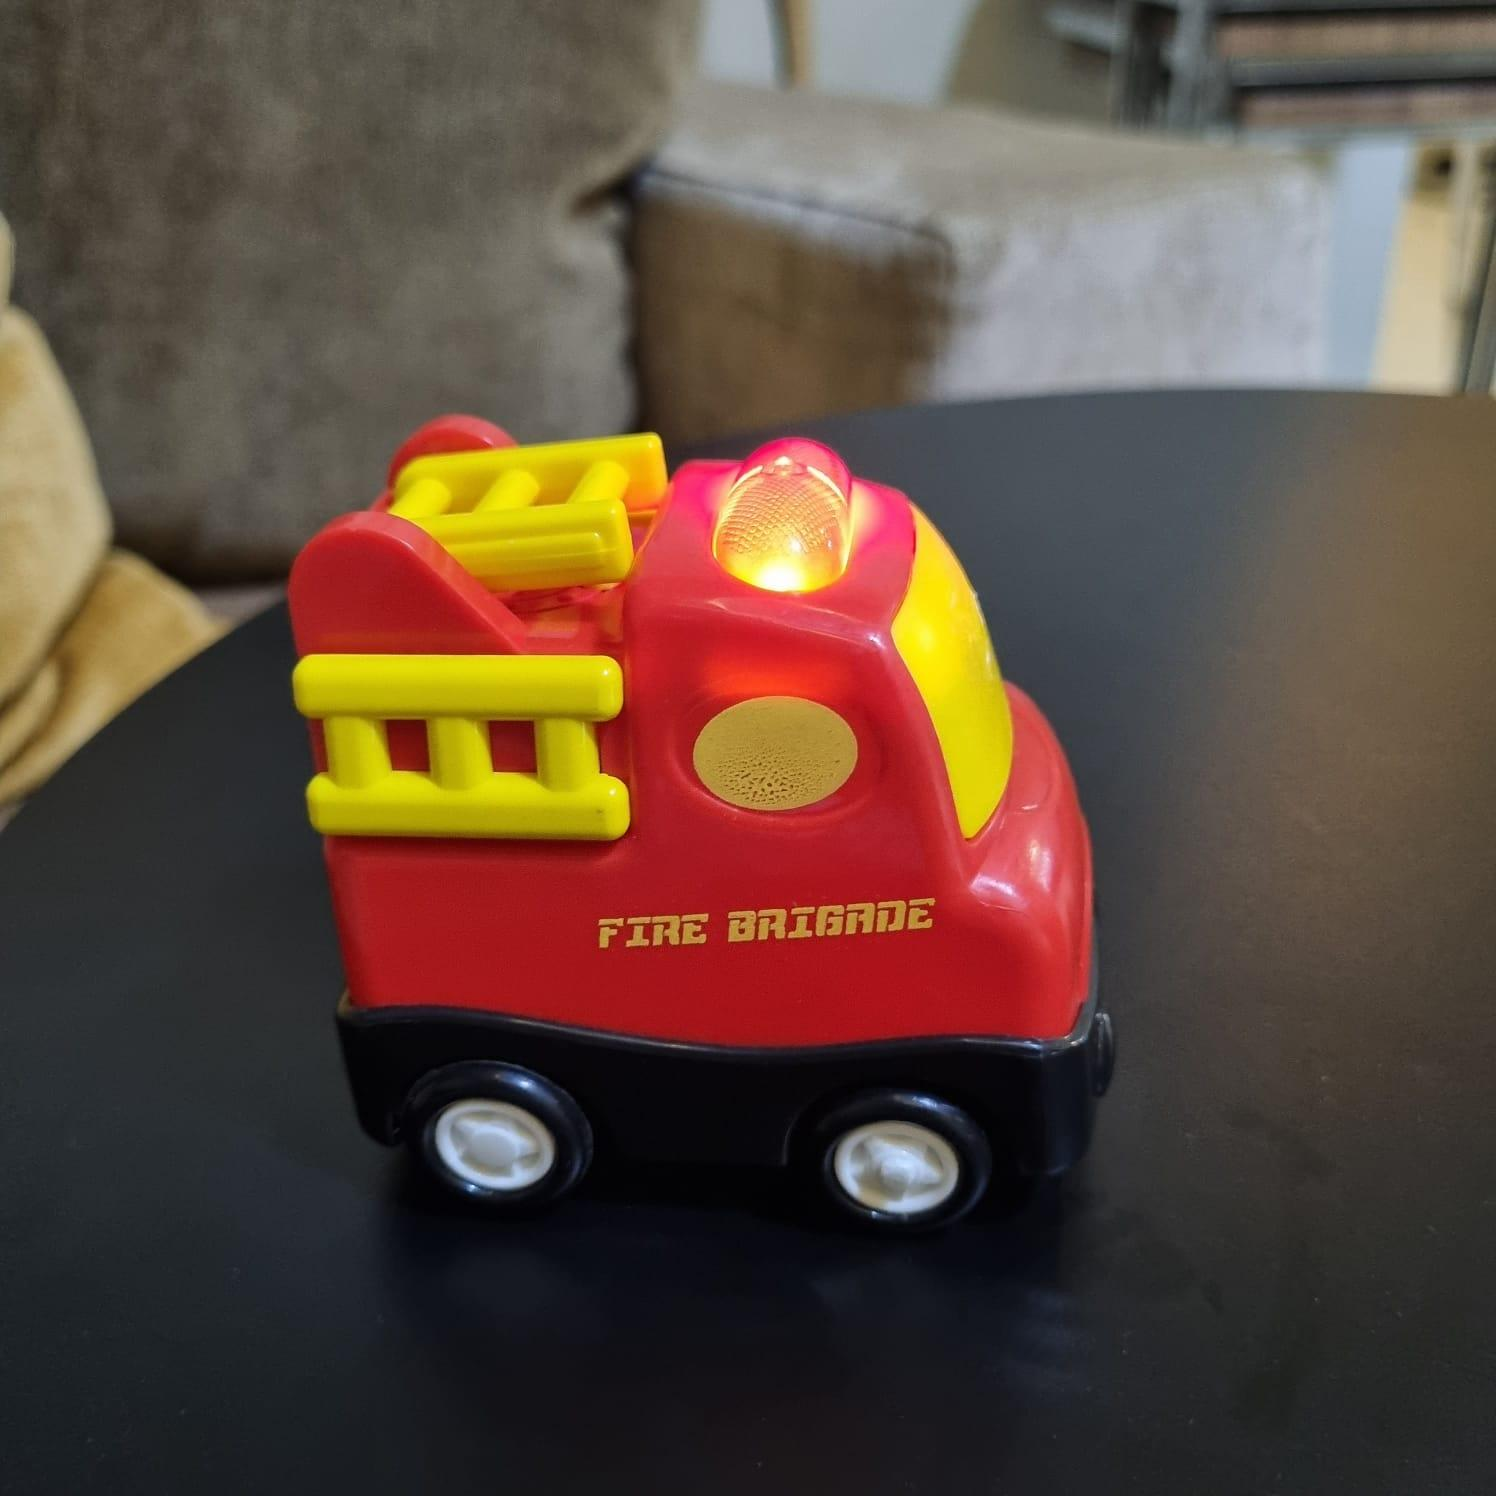firetruck_on: (284, 407, 1107, 1237)
